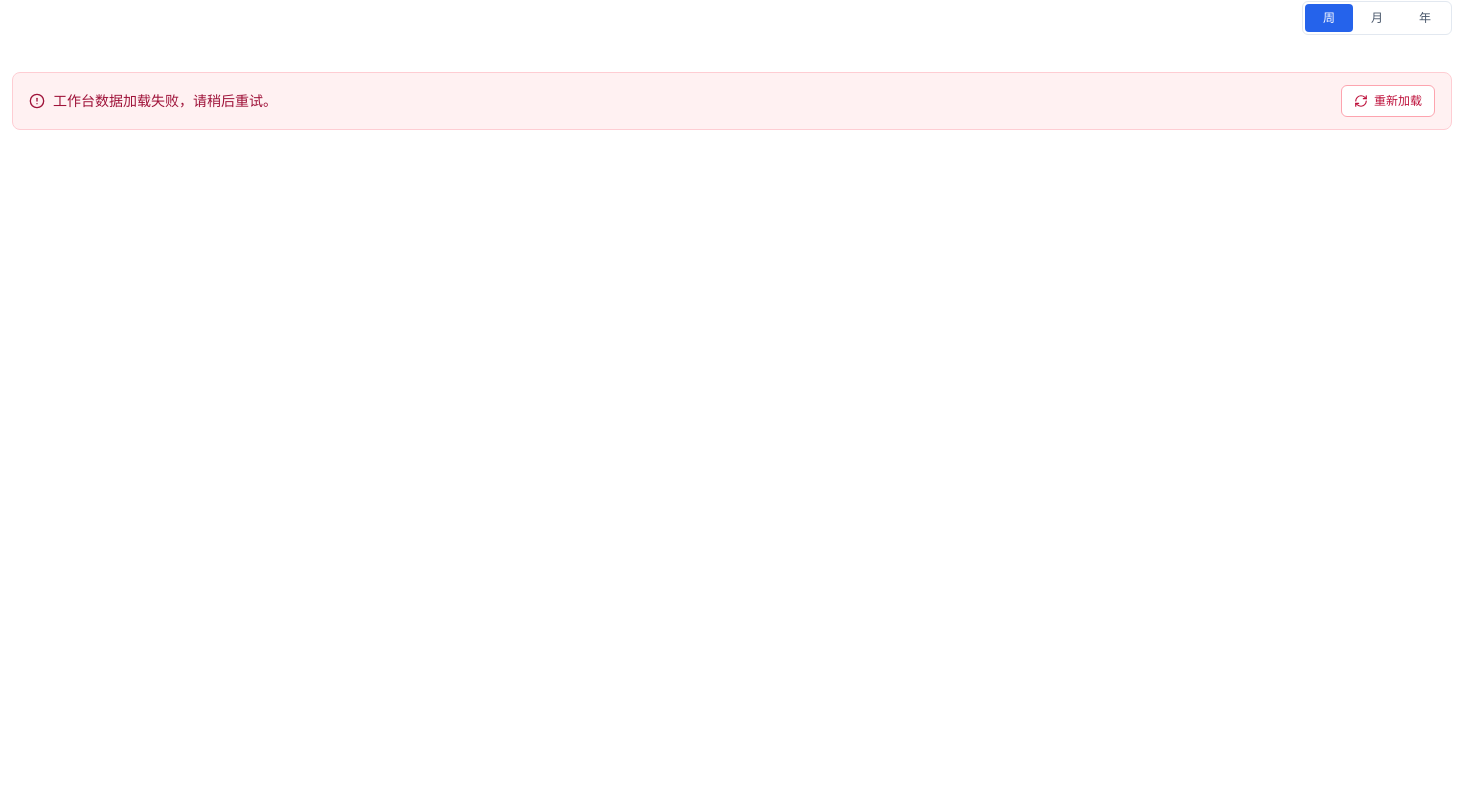
Test: WorkbenchView › shows an inline initial error and recovers through retry
Expected: the message with test id "dashboard-error" shows "工作台数据加载失败", x1=53 y1=93 x2=277 y2=109
Click the button with test id "dashboard-retry" at (1388, 101), box x1=1341 y1=85 x2=1435 y2=117
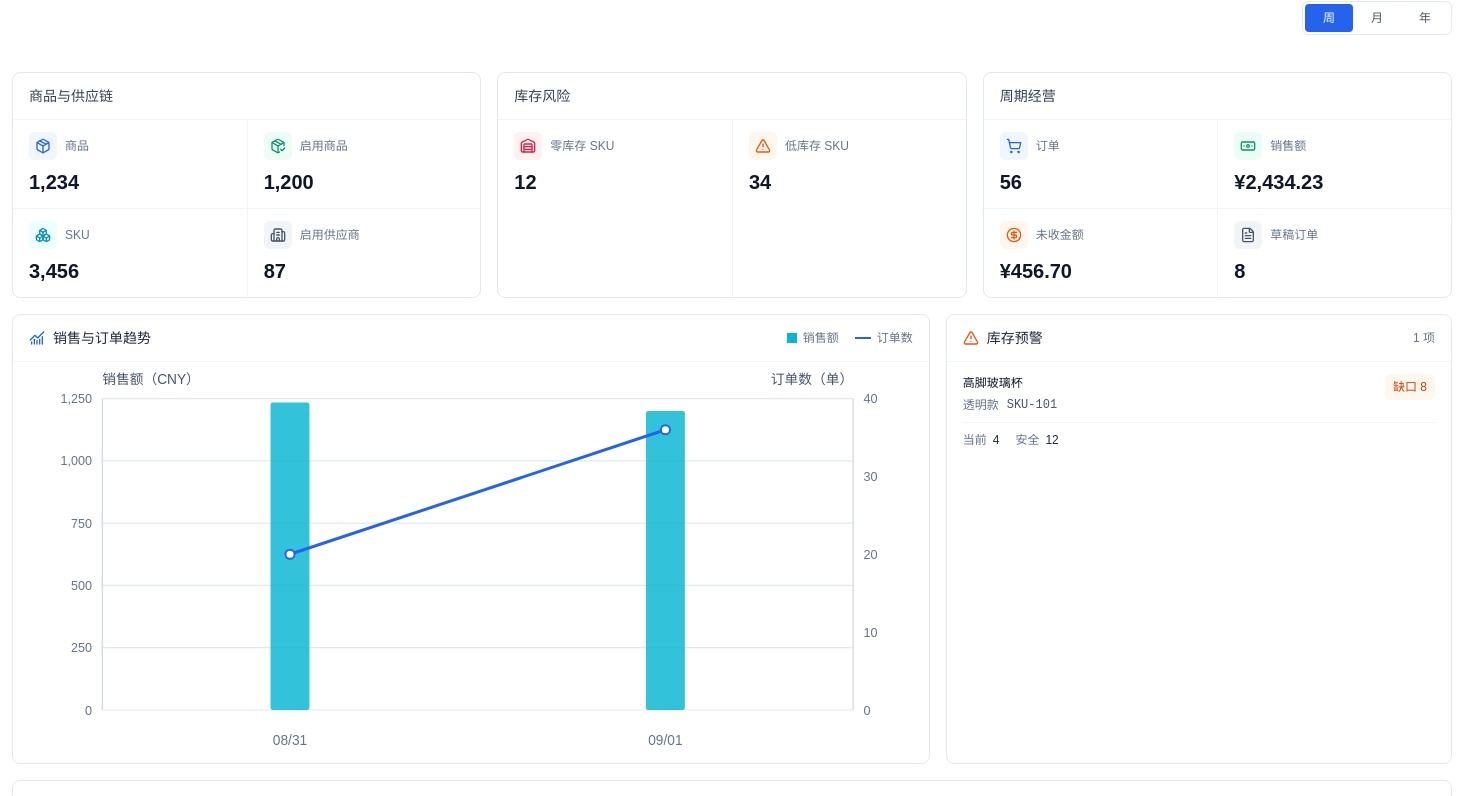
Now the element with test id "summary-salesAmount" shows "2,434.23", box x1=1234 y1=171 x2=1323 y2=193
